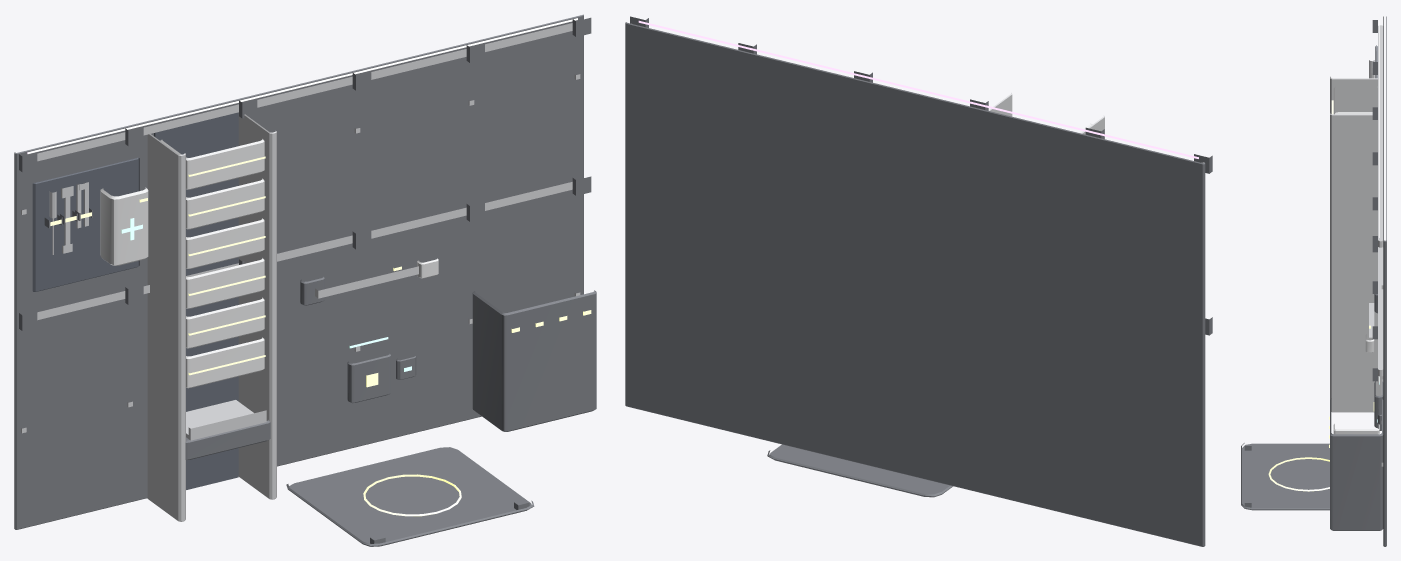
The model's file is iter_02.glb.
The picture shows the model from 3 angles, left to right: view 1: azimuth 30°, elevation 25°; view 2: azimuth 150°, elevation 25°; view 3: azimuth 270°, elevation 25°; orthographic projection. The views are drawn at different scales.
Parts seen in each view (by area): view 1: Wall_Plate, Lift_Column, Swap_Bay, Lift_Bins, Floor_Pad, Kit_Panel, Lift_Back, Wall_Rail, Hook_Clamps, Kit_Box, Lift_Delivery_Tray, Lift_Carriage (+5 smaller); view 2: Wall_Plate, Floor_Pad, Accent_Strip, Hook_Clamps; view 3: Lift_Column, Floor_Pad, Swap_Bay, Wall_Rail, Wall_Plate, Hook_Clamps, Floor_Pad_Ring, Swap_Packs, Charge_Coupler, Accent_Strip.
Boxes of the visible parts, <box> form: Wall_Plate: <box>14,14,583,529</box>; Lift_Column: <box>147,112,276,521</box>; Swap_Bay: <box>472,290,596,431</box>; Lift_Bins: <box>160,139,264,388</box>; Floor_Pad: <box>286,447,534,546</box>; Kit_Panel: <box>32,157,139,291</box>; Lift_Back: <box>154,112,238,489</box>; Wall_Rail: <box>37,23,572,320</box>; Hook_Clamps: <box>19,17,591,330</box>; Kit_Box: <box>100,187,148,265</box>; Lift_Delivery_Tray: <box>186,400,266,440</box>; Lift_Carriage: <box>185,420,270,460</box>; Wall_Plate: <box>625,22,1205,546</box>; Floor_Pad: <box>767,444,952,497</box>; Accent_Strip: <box>638,20,1198,158</box>; Hook_Clamps: <box>630,16,1212,335</box>; Lift_Column: <box>1330,76,1383,412</box>; Floor_Pad: <box>1241,443,1329,510</box>; Swap_Bay: <box>1330,399,1383,530</box>; Wall_Rail: <box>1378,25,1383,376</box>; Wall_Plate: <box>1383,16,1386,546</box>; Hook_Clamps: <box>1372,20,1377,381</box>; Floor_Pad_Ring: <box>1268,457,1329,491</box>; Swap_Packs: <box>1333,424,1379,434</box>; Charge_Coupler: <box>1374,381,1383,428</box>; Accent_Strip: <box>1379,20,1379,237</box>.
Bounding box in the file's own units: 3 × 2.01 × 0.82.
